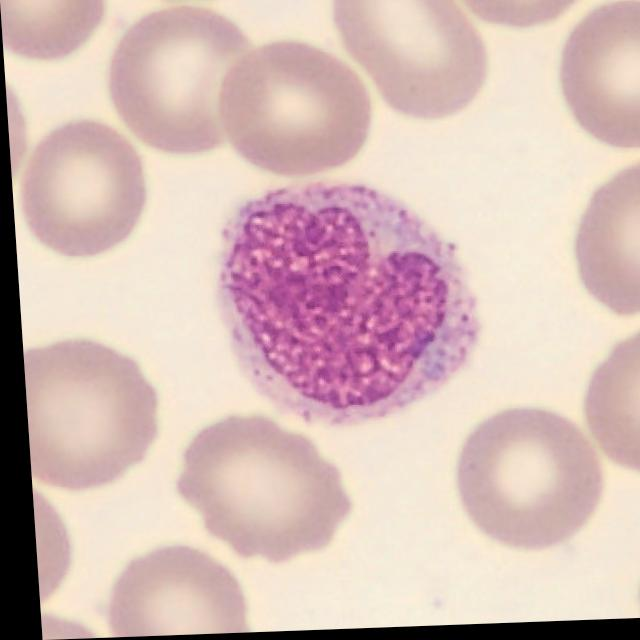Monocito: (219, 189, 472, 426)
